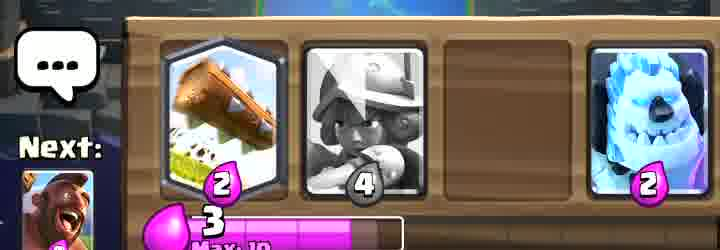hog-rider: (22, 170, 93, 250)
log: (167, 43, 280, 190)
